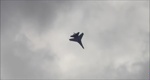maybay_muctieu: (69, 31, 86, 50)
